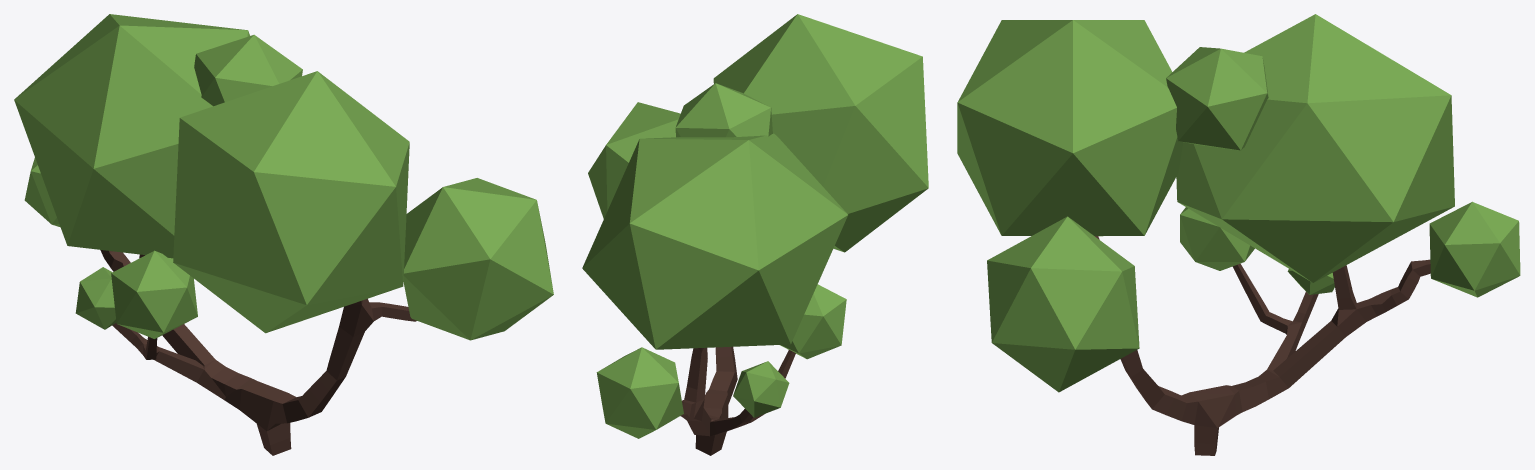
Rendered from New_Tree_7.fbx.
3 renders of one model, left to right at view 1: azimuth 30°, elevation 25°; view 2: azimuth 150°, elevation 25°; view 3: azimuth 270°, elevation 25°, orthographic. The views are drawn at different scales.
Parts seen in each view (by area): view 1: Icosphere.072, Icosphere.074, Icosphere.071, Cube.013, Icosphere.073, Icosphere.077, Icosphere.076, Icosphere.075; view 2: Icosphere.074, Icosphere.072, Icosphere.075, Cube.013, Icosphere.077, Icosphere.071, Icosphere.073, Icosphere.076; view 3: Icosphere.074, Icosphere.072, Icosphere.071, Cube.013, Icosphere.077, Icosphere.075, Icosphere.073, Icosphere.076.
Part boxes in pixels (<box>): Icosphere.072: <box>173,71,409,333</box>; Icosphere.074: <box>14,14,249,258</box>; Icosphere.071: <box>403,178,553,340</box>; Cube.013: <box>100,250,416,455</box>; Icosphere.073: <box>111,250,197,338</box>; Icosphere.077: <box>194,34,302,106</box>; Icosphere.076: <box>75,267,116,329</box>; Icosphere.075: <box>24,158,60,227</box>; Icosphere.074: <box>582,133,847,349</box>; Icosphere.072: <box>713,14,928,252</box>; Icosphere.075: <box>596,347,683,438</box>; Cube.013: <box>680,346,795,455</box>; Icosphere.077: <box>675,83,772,137</box>; Icosphere.071: <box>588,102,680,218</box>; Icosphere.073: <box>780,284,846,359</box>; Icosphere.076: <box>733,361,789,417</box>; Icosphere.074: <box>1176,14,1454,282</box>; Icosphere.072: <box>957,20,1183,236</box>; Icosphere.071: <box>987,216,1139,392</box>; Cube.013: <box>1094,236,1430,455</box>; Icosphere.077: <box>1166,47,1268,150</box>; Icosphere.075: <box>1429,201,1520,297</box>; Icosphere.073: <box>1180,207,1254,270</box>; Icosphere.076: <box>1287,269,1334,294</box>.
Bounding box in the file's own units: 261 × 291 × 353.
